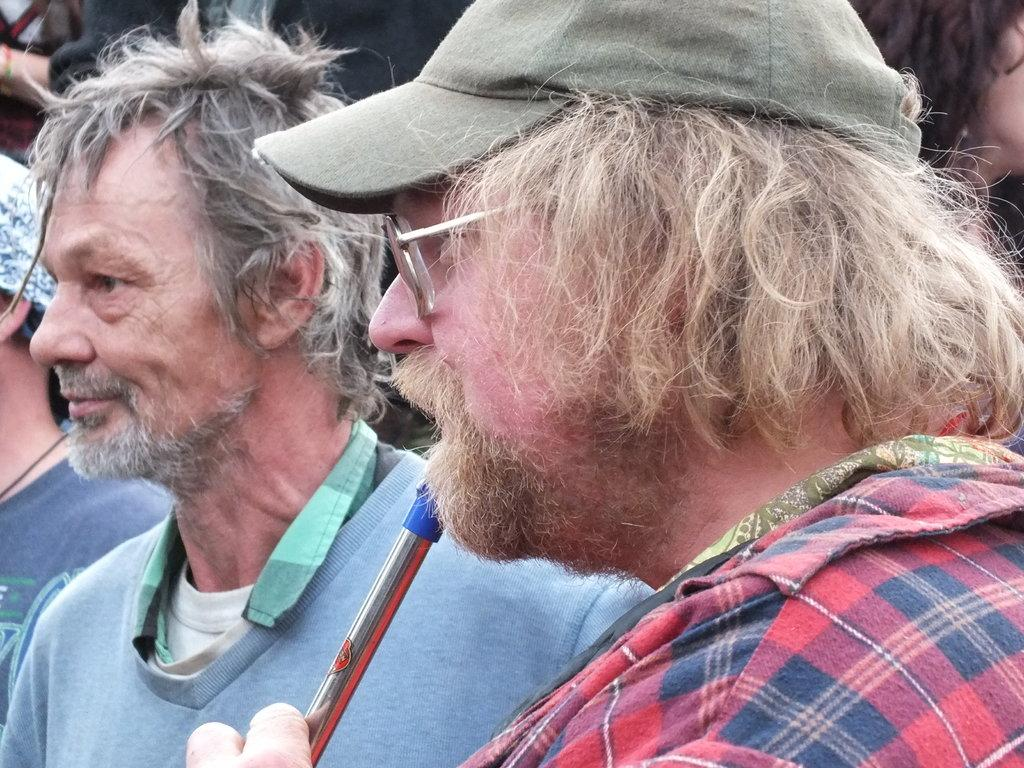Hat: (253, 0, 922, 215)
